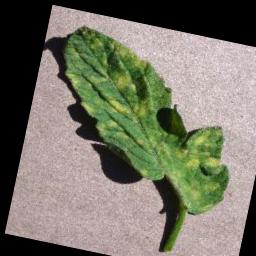Leaf_Mold: (35, 23, 254, 220)
